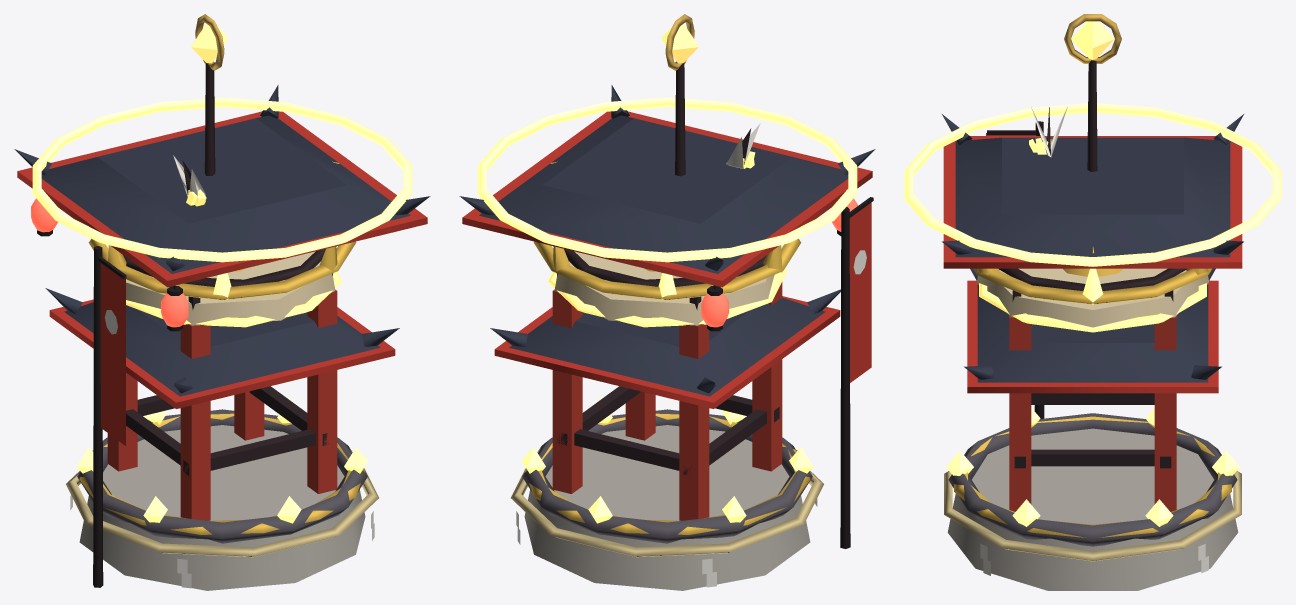
File: tower_archer_eagleEye_ultimate.glb
3 views of the same model, side by side, from view 1: azimuth 30°, elevation 25°; view 2: azimuth 150°, elevation 25°; view 3: azimuth 270°, elevation 25° (orthographic).
Parts seen in each view (by area): view 1: deco_eave_0_roof, base, deco_eave_1_roof, ult_halo, deco_eave_0_rim, base_rim, deck, deco_eave_1_rim, post_wn, post_en, deco_nobori_cloth, deco_shimenawa_rope (+17 smaller); view 2: deco_eave_0_roof, base, deco_eave_1_roof, ult_halo, base_rim, deco_eave_0_rim, deco_eave_1_rim, deck, post_ws, post_es, deco_shimenawa_rope, deco_nobori_cloth (+17 smaller); view 3: deco_eave_0_roof, base, deco_eave_1_roof, ult_halo, base_rim, deco_eave_0_rim, deck, deco_eave_1_rim, deco_shimenawa_rope, post_en, post_es, ult_crown_band (+10 smaller).
Boxes of the visible parts, x1,y1,x2,y2 form: deco_eave_0_roof: (41,115,410,273); base: (79,425,365,590); deco_eave_1_roof: (64,302,380,396); ult_halo: (32,97,412,262); deco_eave_0_rim: (17,111,427,287); base_rim: (77,409,367,543); deck: (126,251,335,325); deco_eave_1_rim: (49,299,395,408); post_wn: (180,324,210,520); post_en: (307,289,337,493); deco_nobori_cloth: (100,263,125,445); deco_shimenawa_rope: (66,468,378,557); deco_eave_0_roof: (479,115,848,273); base: (524,425,810,590); deco_eave_1_roof: (509,297,825,396); ult_halo: (477,97,857,262); base_rim: (522,409,812,543); deco_eave_0_rim: (462,111,872,287); deco_eave_1_rim: (494,296,840,408); deck: (554,251,774,325); post_ws: (679,324,709,520); post_es: (552,289,582,493); deco_shimenawa_rope: (511,468,823,557); deco_nobori_cloth: (849,202,871,382); deco_eave_0_roof: (955,137,1230,257); base: (947,428,1238,590); deco_eave_1_roof: (977,285,1208,382); ult_halo: (904,103,1281,266); base_rim: (948,413,1237,546); deco_eave_0_rim: (943,136,1242,268); deck: (977,268,1208,327); deco_eave_1_rim: (967,280,1218,393); deco_shimenawa_rope: (944,471,1241,561); post_en: (1009,316,1031,511); post_es: (1154,316,1176,511); ult_crown_band: (974,268,1211,304).
Size of the model in its own units: 0.434 by 0.64 by 0.4274.
